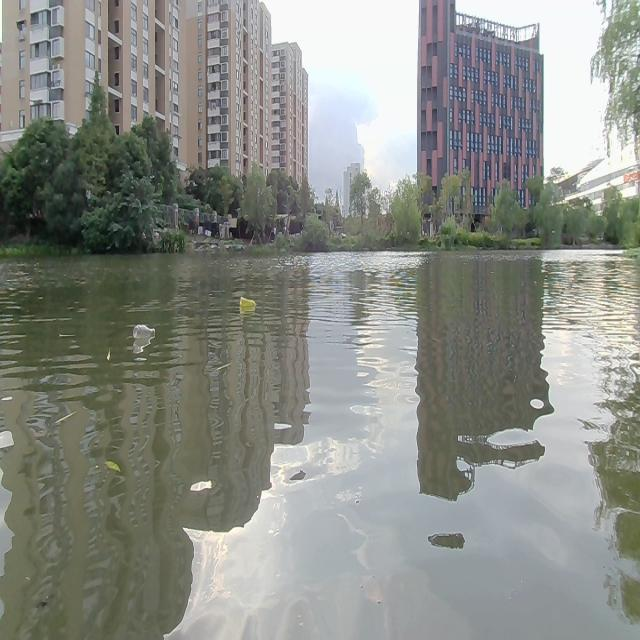bottle: (132, 321, 158, 339), (237, 293, 259, 311)
